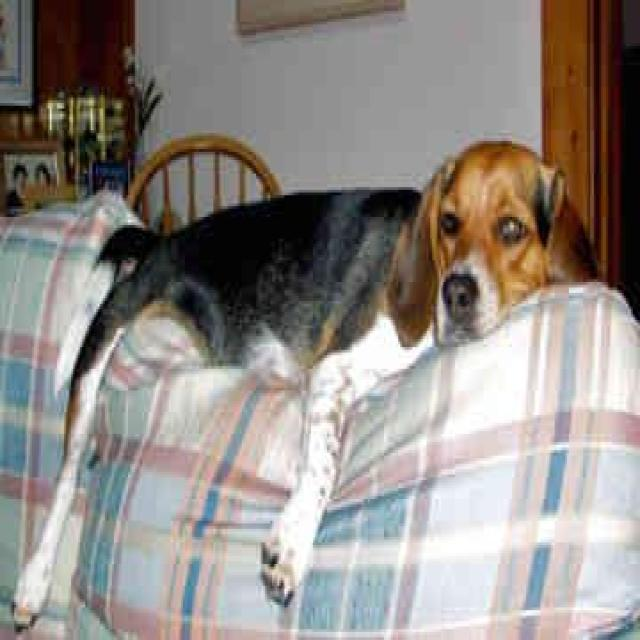beagle: (7, 133, 603, 632)
